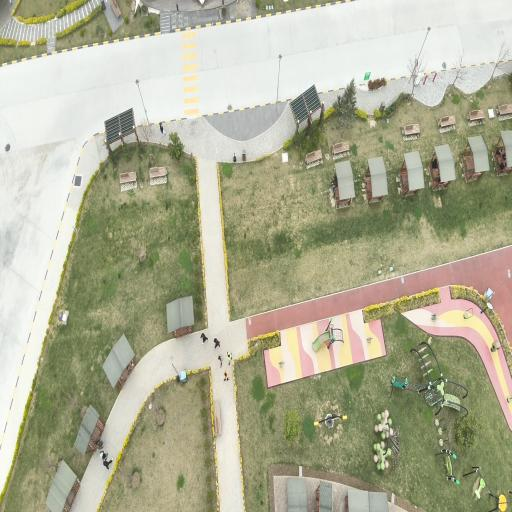person: (331, 175, 337, 192), (103, 459, 112, 469), (201, 333, 207, 344), (227, 352, 232, 365), (100, 451, 107, 460), (218, 355, 223, 367), (214, 338, 219, 349), (224, 372, 229, 381), (160, 122, 163, 136)
